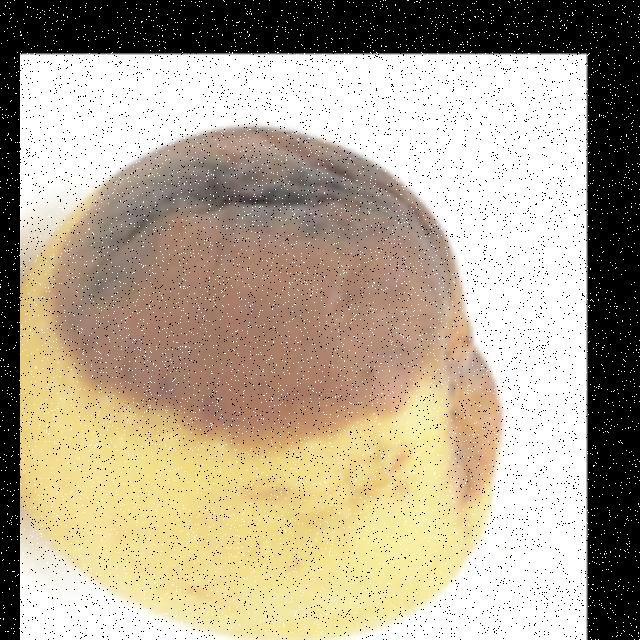Apel Tidak Segar: (18, 88, 536, 640)
